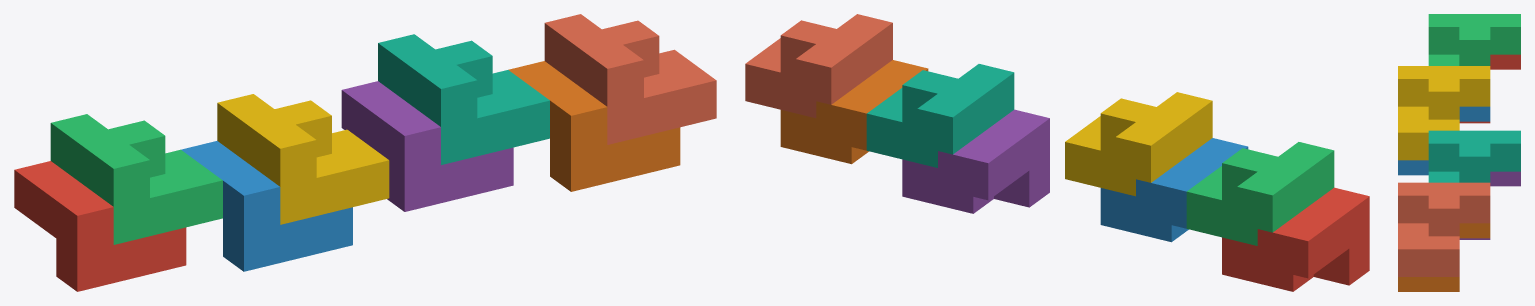
Rendered from tiling.obj.
3 views of the same model, side by side, from view 1: azimuth 30°, elevation 25°; view 2: azimuth 150°, elevation 25°; view 3: azimuth 270°, elevation 25° (orthographic). The views are drawn at different scales.
Parts seen in each view (by area): view 1: copy_1_domain_3, copy_1_domain_8, copy_1_domain_4, copy_1_domain_7, copy_1_domain_1, copy_1_domain_5, copy_1_domain_6, copy_1_domain_2; view 2: copy_1_domain_3, copy_1_domain_7, copy_1_domain_8, copy_1_domain_4, copy_1_domain_1, copy_1_domain_5, copy_1_domain_6, copy_1_domain_2; view 3: copy_1_domain_8, copy_1_domain_4, copy_1_domain_7, copy_1_domain_3, copy_1_domain_6, copy_1_domain_2, copy_1_domain_1, copy_1_domain_5.
Part boxes in pixels (x1,y1,x2,y2): copy_1_domain_3: (50, 114, 222, 244); copy_1_domain_8: (544, 14, 716, 144); copy_1_domain_4: (217, 94, 389, 224); copy_1_domain_7: (378, 34, 549, 164); copy_1_domain_1: (14, 161, 186, 291); copy_1_domain_5: (341, 81, 513, 211); copy_1_domain_6: (508, 61, 680, 191); copy_1_domain_2: (181, 141, 352, 271); copy_1_domain_3: (1186, 142, 1334, 245); copy_1_domain_7: (866, 64, 1014, 167); copy_1_domain_8: (745, 14, 892, 118); copy_1_domain_4: (1065, 92, 1212, 196); copy_1_domain_1: (1222, 187, 1369, 291); copy_1_domain_5: (902, 109, 1049, 213); copy_1_domain_6: (780, 60, 928, 164); copy_1_domain_2: (1100, 138, 1248, 242); copy_1_domain_8: (1398, 182, 1490, 276); copy_1_domain_4: (1398, 66, 1490, 160); copy_1_domain_7: (1428, 130, 1520, 182); copy_1_domain_3: (1428, 14, 1520, 65); copy_1_domain_6: (1398, 223, 1490, 291); copy_1_domain_2: (1398, 106, 1490, 175); copy_1_domain_1: (1459, 54, 1520, 123); copy_1_domain_5: (1459, 171, 1520, 239).
Bounding box in the file's own units: 17 × 3 × 4.
